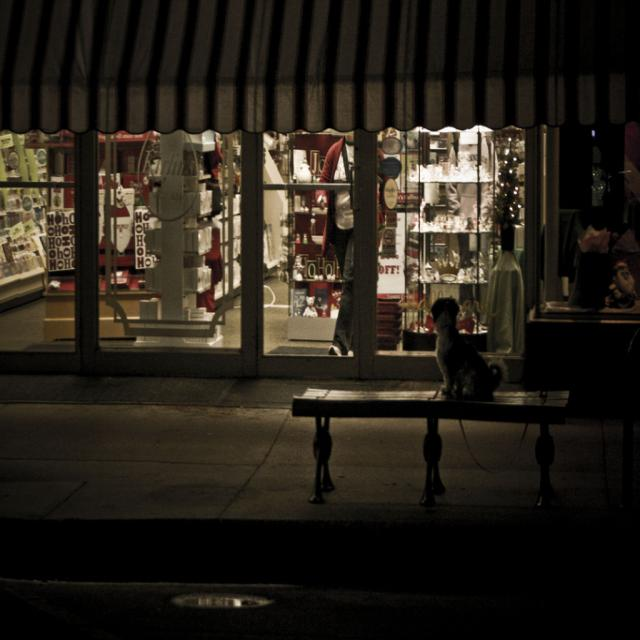dog: (400, 250, 520, 434)
